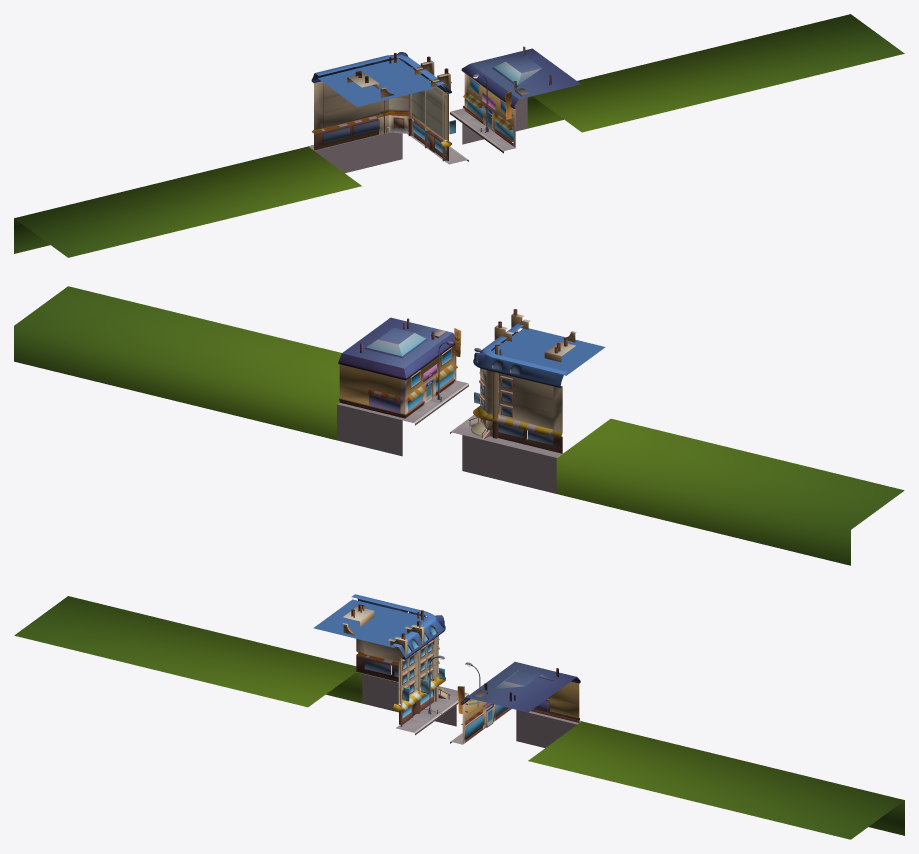
File: CityShopSet01 1.fbx
3 views of the same model, one above another, from view 1: azimuth 30°, elevation 25°; view 2: azimuth 150°, elevation 25°; view 3: azimuth 330°, elevation 25° (orthographic).
Visible parts, largest first — view 1: Cube; view 2: Cube; view 3: Cube.
Part boxes in pixels (x1,y1,x2,y2): Cube: (14, 14, 904, 257); Cube: (14, 286, 904, 565); Cube: (14, 594, 904, 839).
Bounding box in the file's own units: 8921 × 1291 × 1000.
